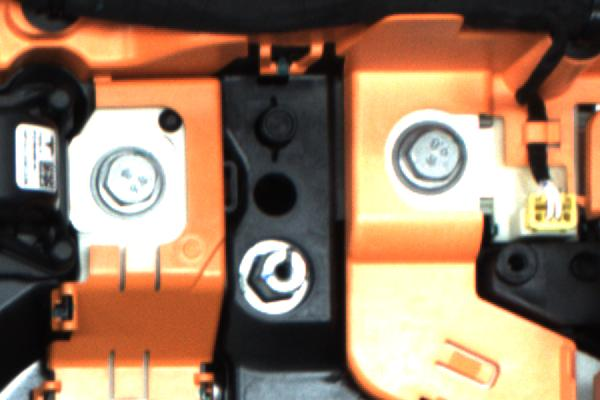nut_b: (380, 119, 479, 204), (89, 141, 173, 222)
